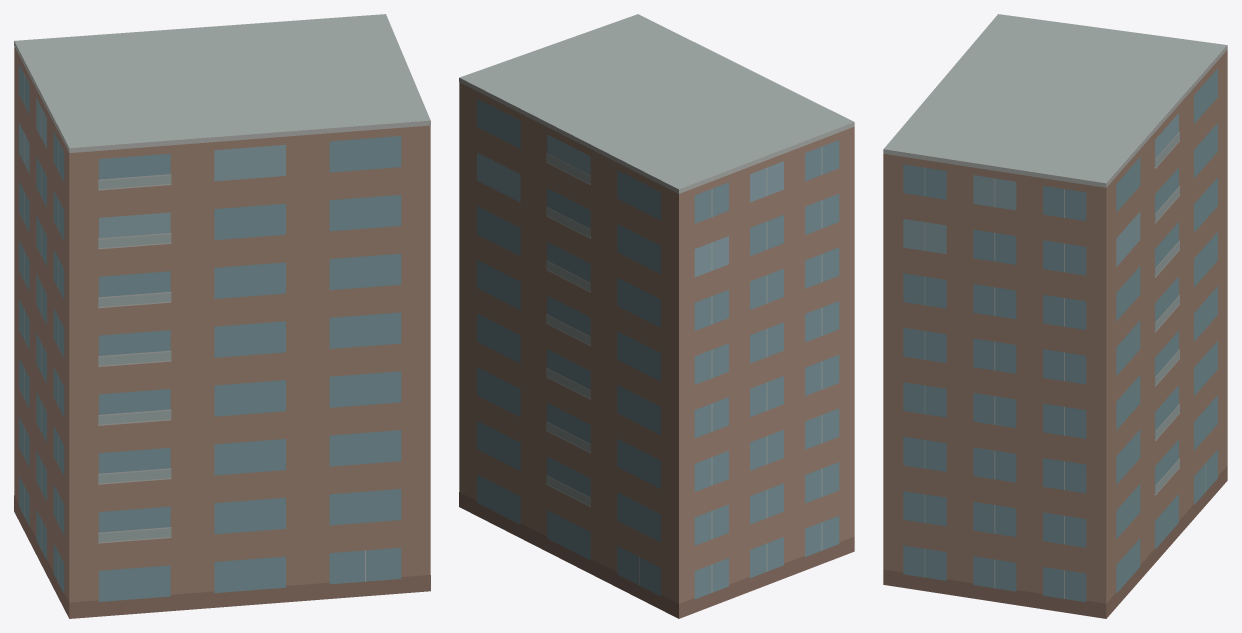
Rendered from survey-upis-32874356.glb.
3 renders of one model, left to right at view 1: azimuth 30°, elevation 25°; view 2: azimuth 150°, elevation 25°; view 3: azimuth 270°, elevation 25°, orthographic. The views are drawn at different scales.
Parts seen in each view (by area): view 1: survey-upis-32874356.tmp; view 2: survey-upis-32874356.tmp; view 3: survey-upis-32874356.tmp.
Part boxes in pixels (x1,y1,x2,y2): survey-upis-32874356.tmp: (14, 14, 430, 618); survey-upis-32874356.tmp: (459, 14, 854, 618); survey-upis-32874356.tmp: (883, 14, 1227, 618).
Bounding box in the file's own units: 19.69 × 23.6 × 16.91.
